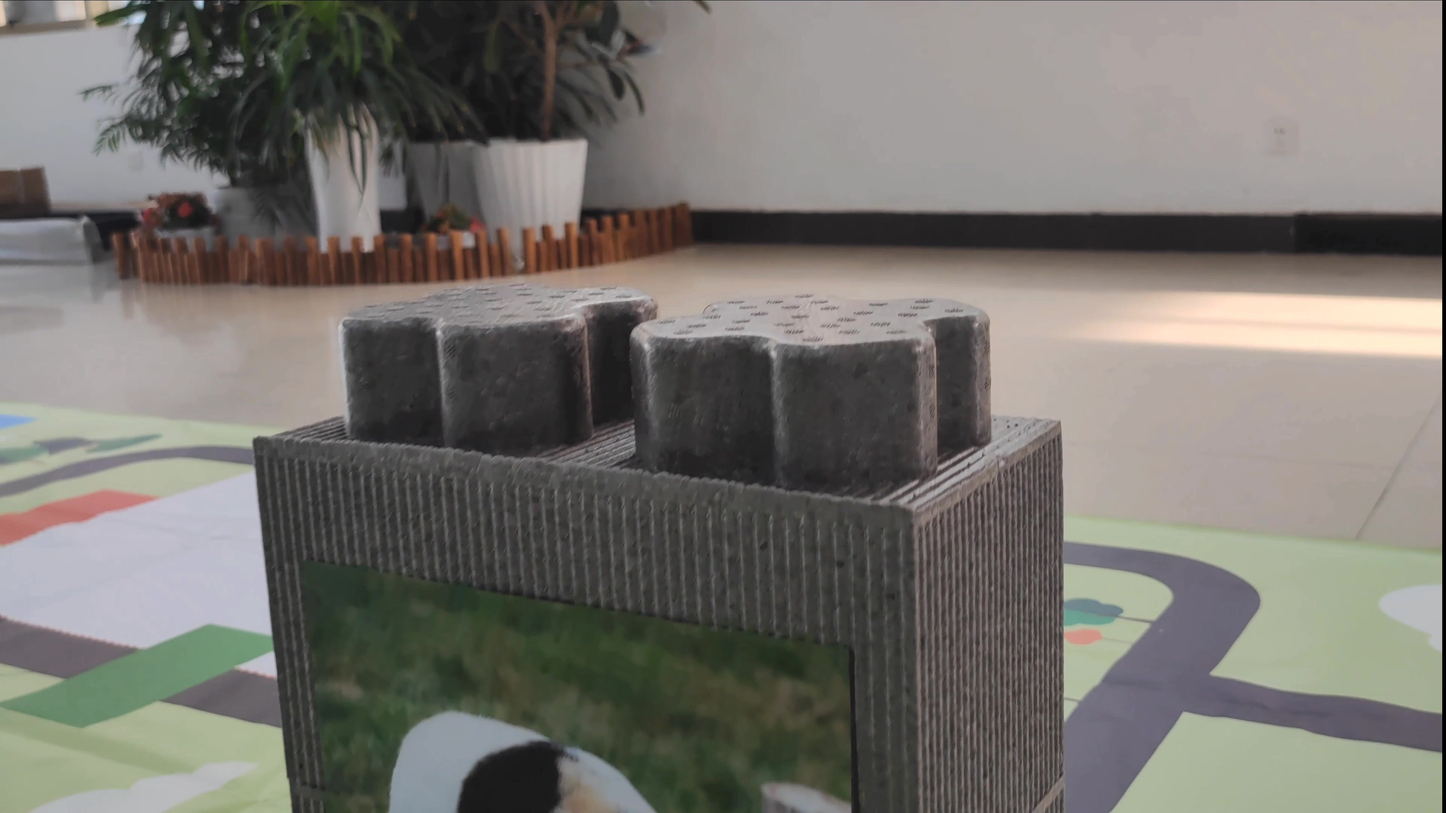panda: (322, 593, 751, 813)
